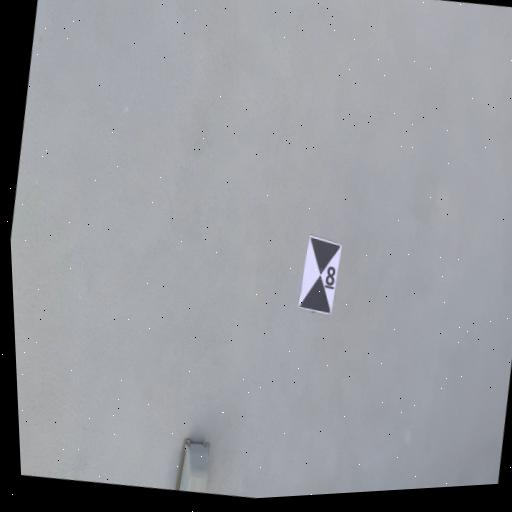target8: (298, 235, 341, 315)
